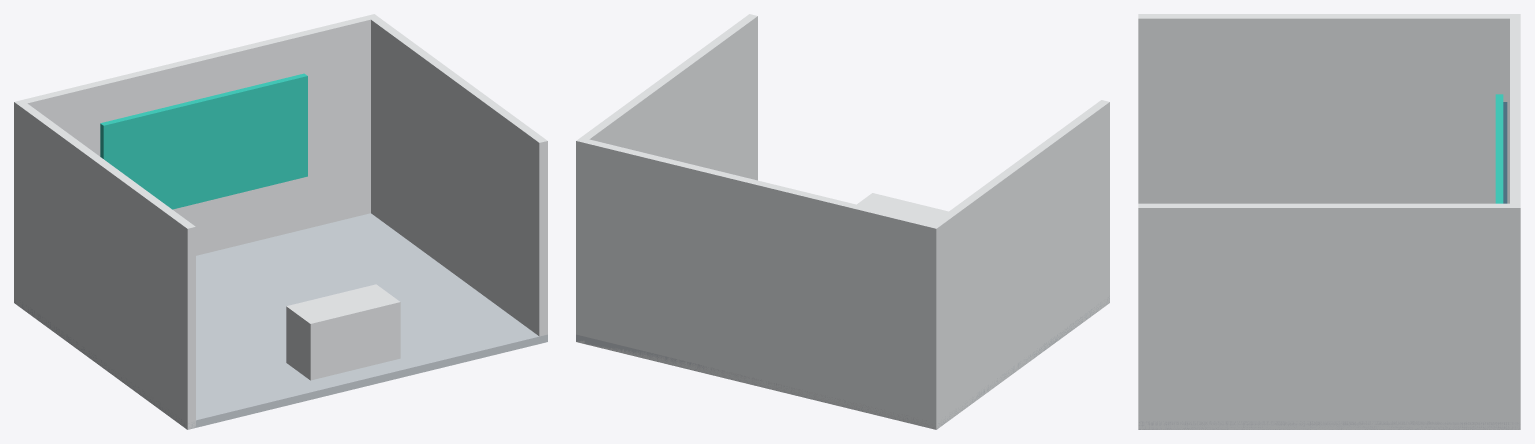
3 views of the same model, side by side, from view 1: azimuth 30°, elevation 25°; view 2: azimuth 150°, elevation 25°; view 3: azimuth 270°, elevation 25° (orthographic). The views are drawn at different scales.
Visible parts, largest first — view 1: Exhibition Booth Concept; view 2: Exhibition Booth Concept; view 3: Exhibition Booth Concept.
Boxes of the visible parts, left/top/right/bottom form: Exhibition Booth Concept: left=14, top=14, right=547, bottom=429; Exhibition Booth Concept: left=576, top=14, right=1109, bottom=429; Exhibition Booth Concept: left=1138, top=14, right=1520, bottom=429.
Bounding box in the file's own units: 6 × 3.2 × 5.
